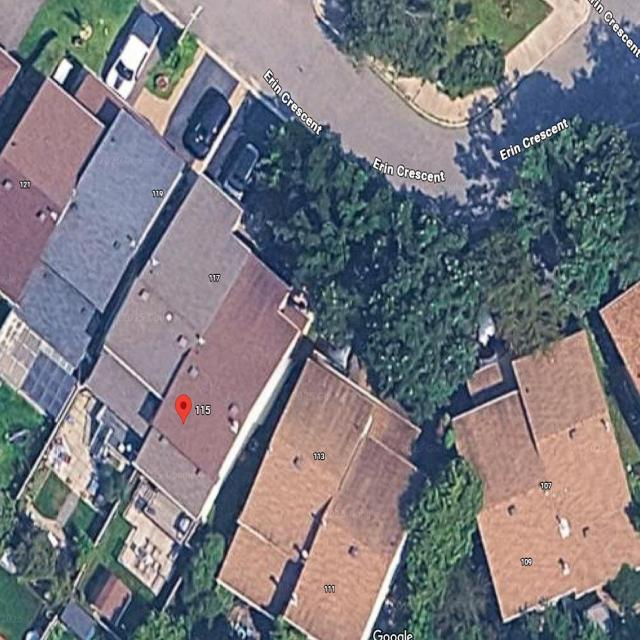Building: (135, 254, 314, 520)
boundaryof property: (70, 142, 398, 639)
obstacle: (106, 15, 164, 99), (185, 93, 233, 160), (221, 138, 259, 198)
walkways: (204, 90, 291, 208)
